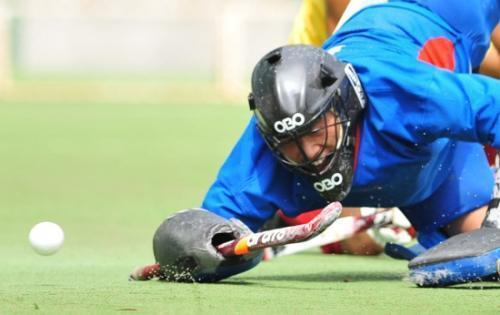Fall-Detected: (195, 2, 500, 280)
